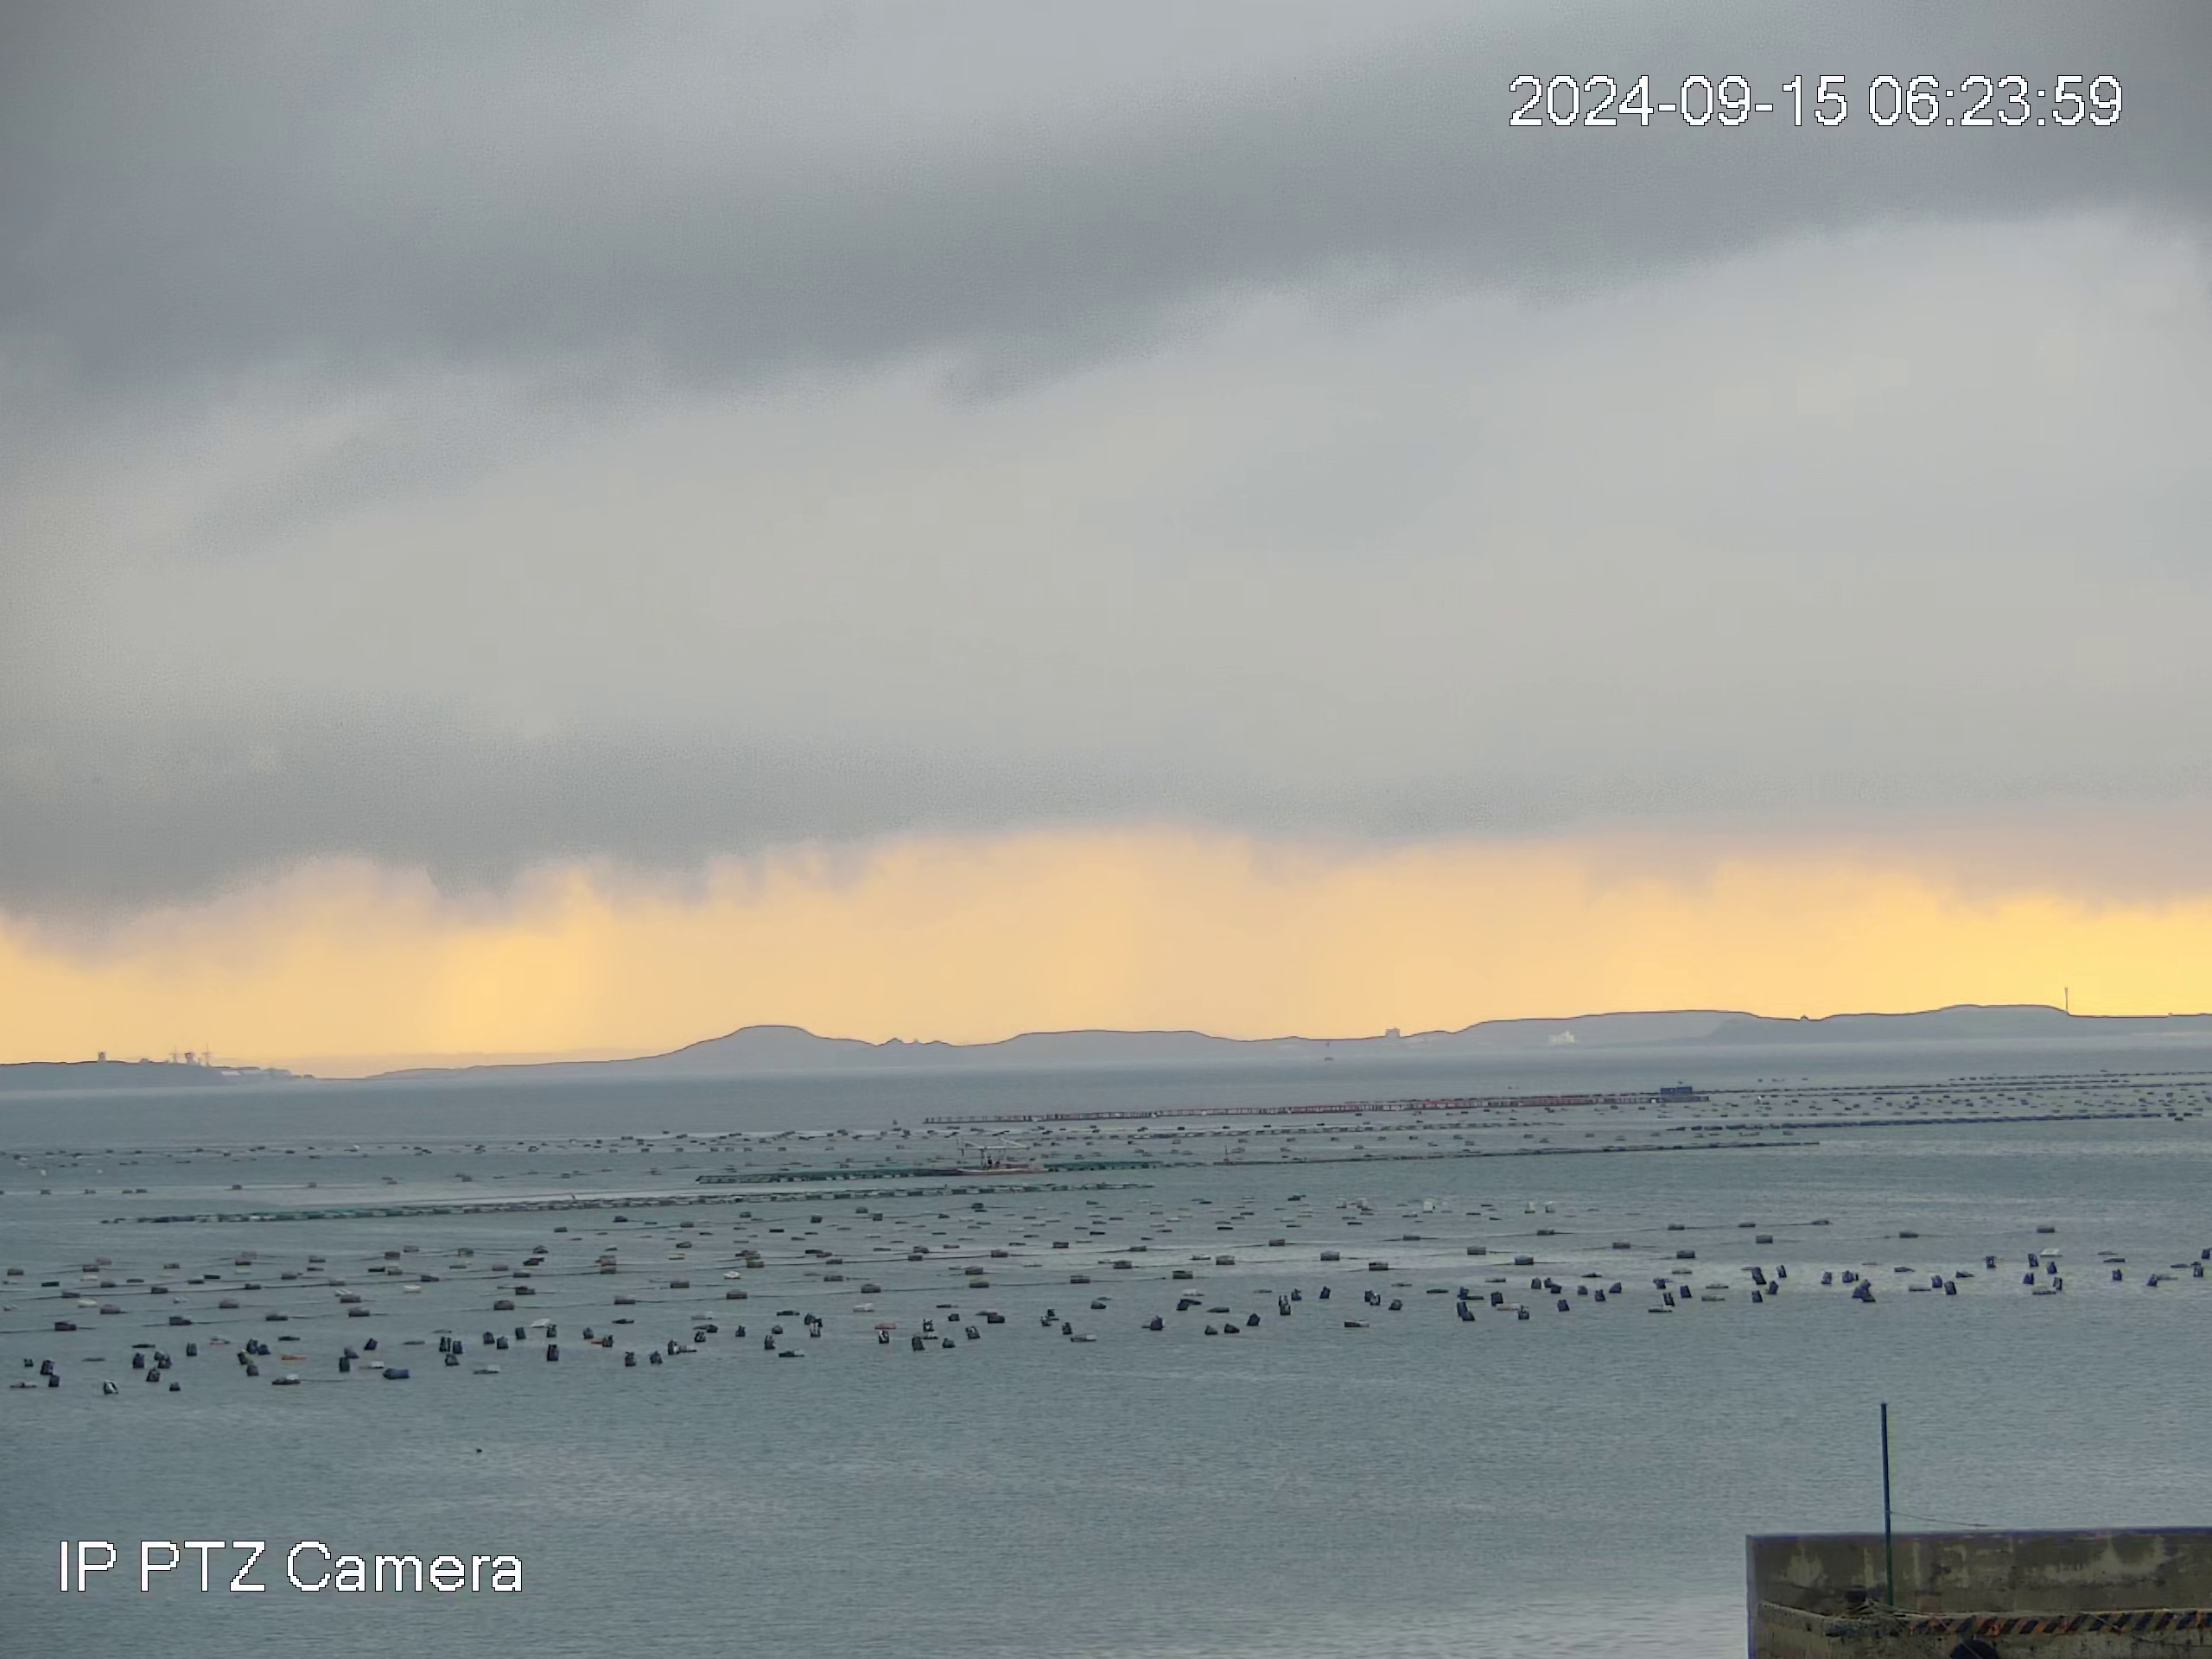boat: (954, 1138, 1043, 1178)
